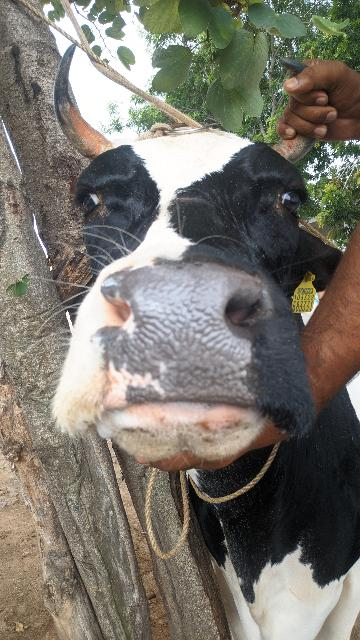Muzzle: (106, 278, 248, 412)
